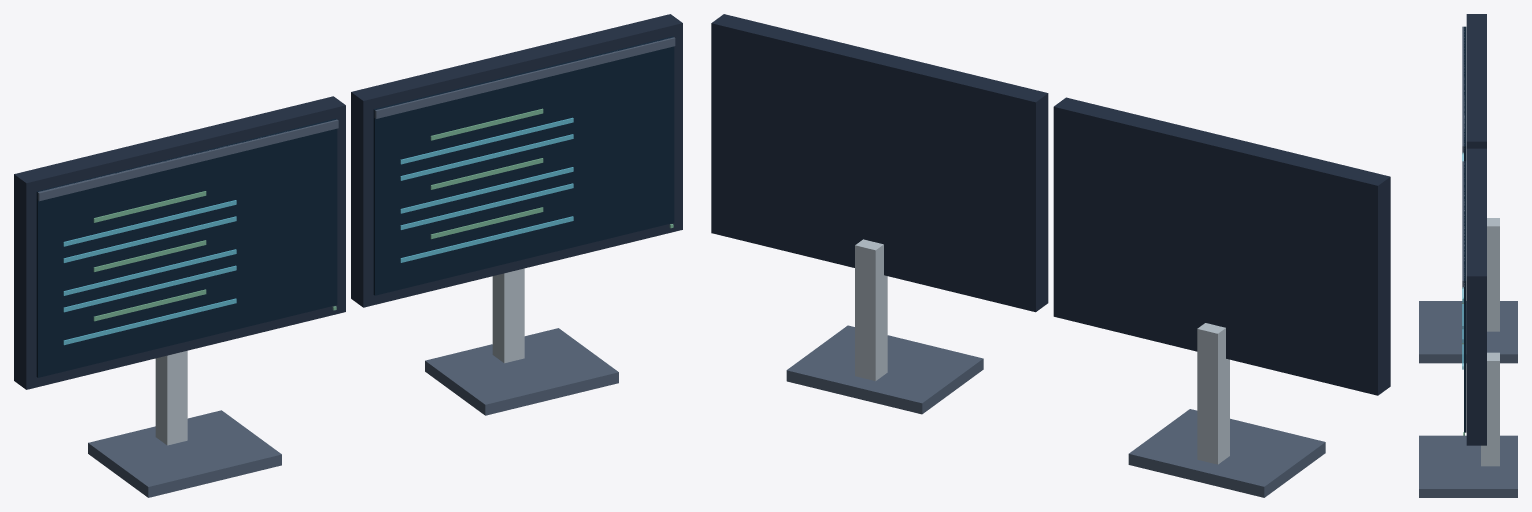
File: officeDualMonitor.glb
The picture shows the model from 3 angles, left to right: view 1: azimuth 30°, elevation 25°; view 2: azimuth 150°, elevation 25°; view 3: azimuth 270°, elevation 25°; orthographic projection. The views are drawn at different scales.
Bounding box in the file's own units: 1.13 × 0.52 × 0.18.
